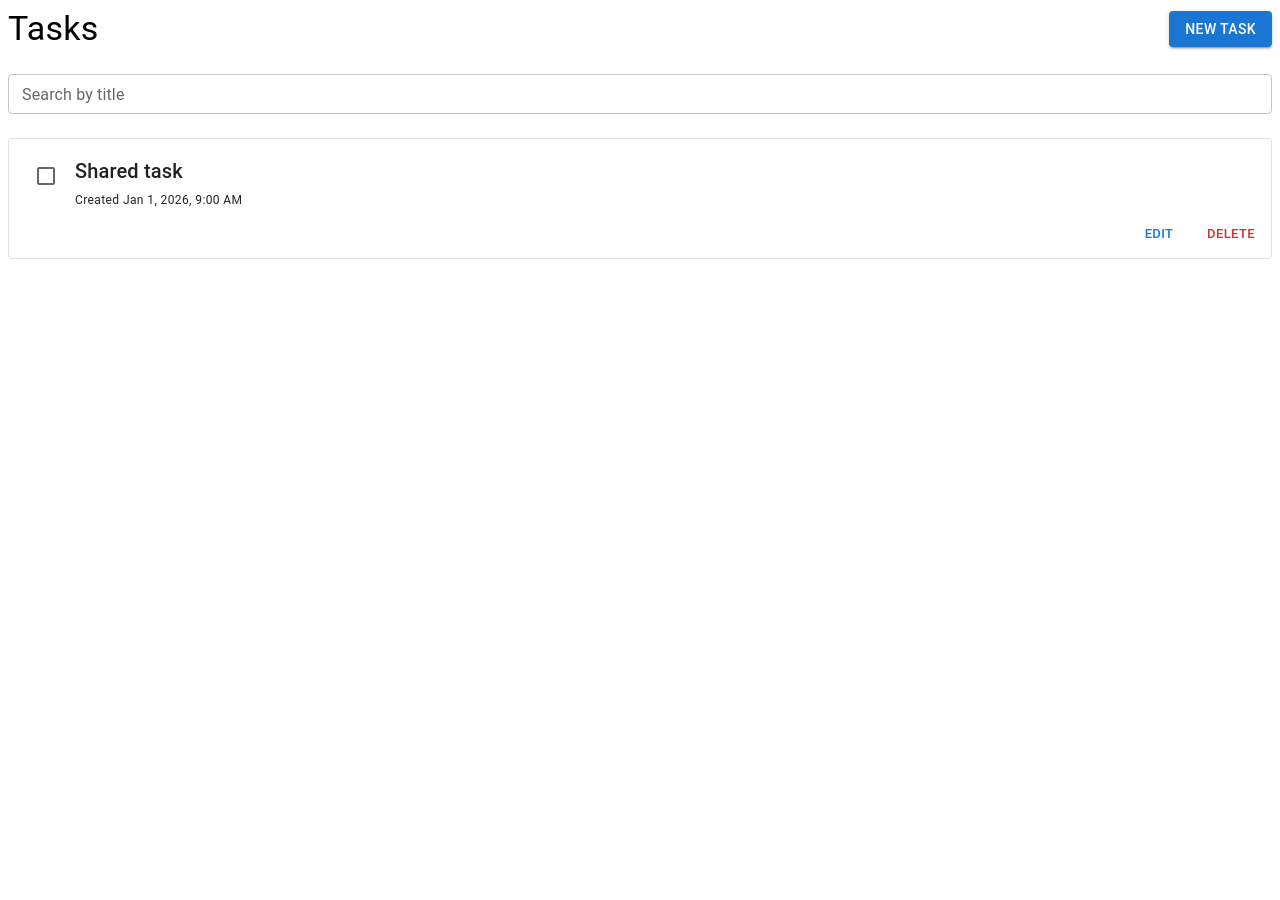
it: TaskList › reverts the checkbox and explains why when the update fails
The width and height of the screenshot is (1280, 900).
Check: the heading "Shared task" is shown, box [75, 159, 183, 183]
Click the checkbox named "Shared task" at (46, 176), box [34, 164, 58, 188]
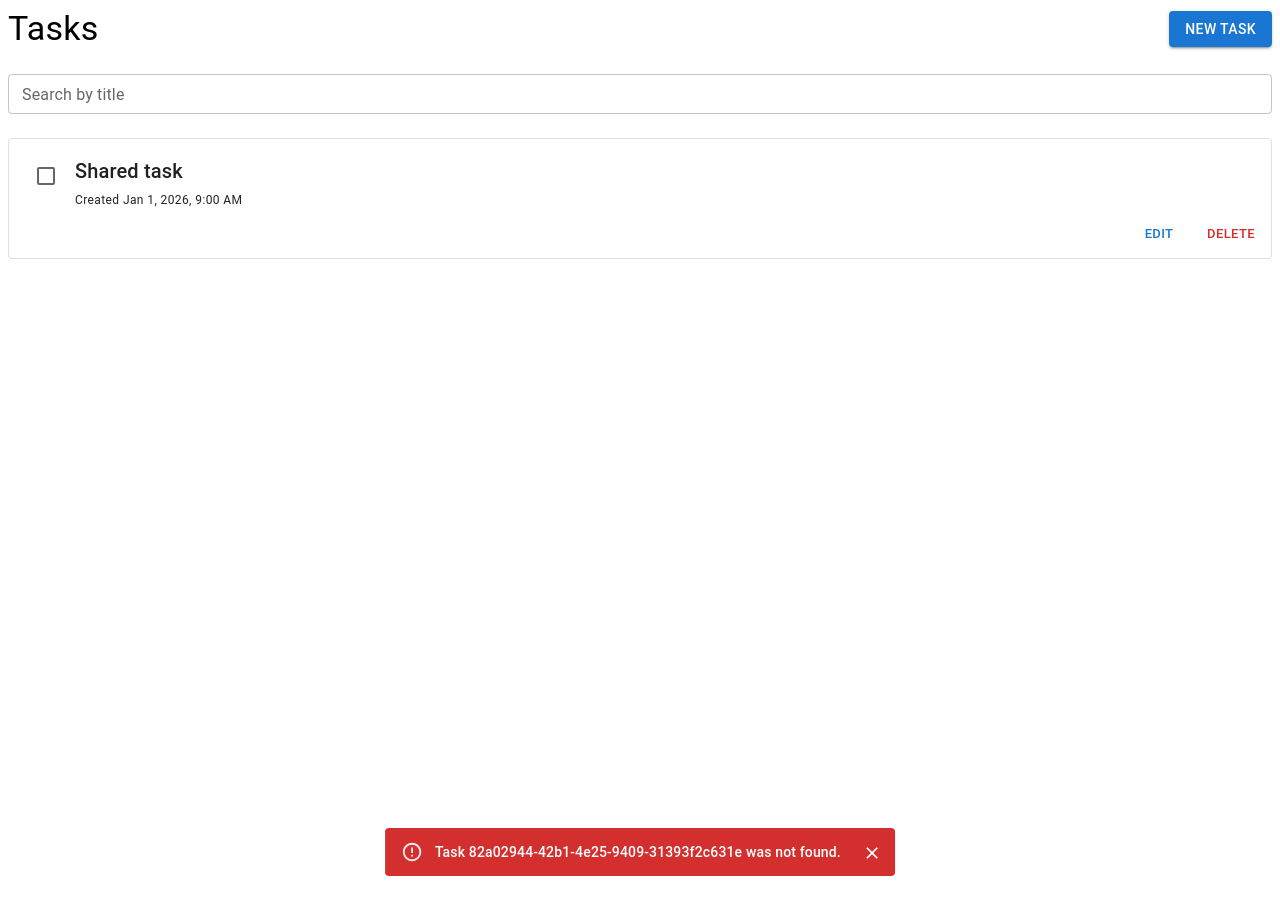
Check: the message shows "was not found", box [435, 844, 841, 860]
